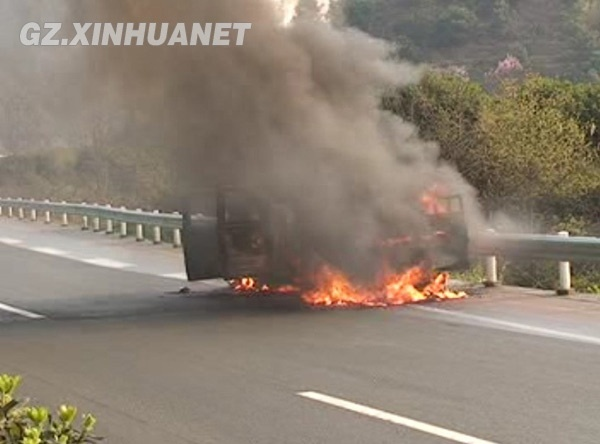fire: (228, 264, 467, 308)
